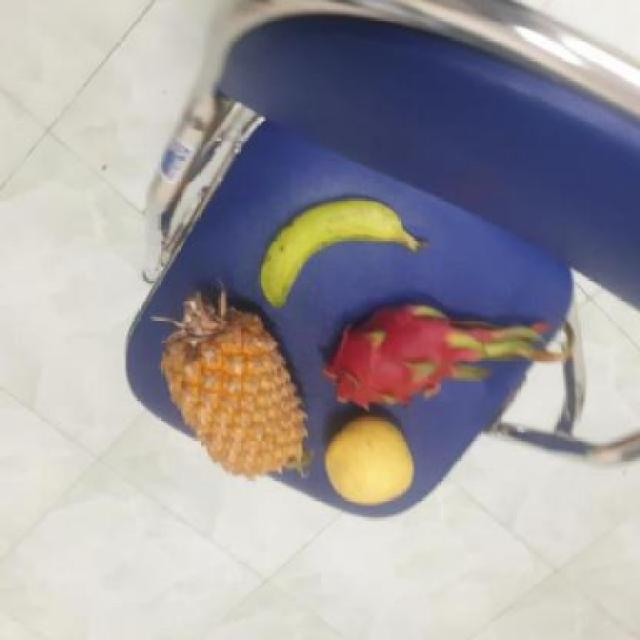banana: (266, 198, 422, 311)
dragon fruit: (330, 298, 472, 411)
pear: (325, 414, 420, 504)
pineapple: (161, 281, 314, 481)
